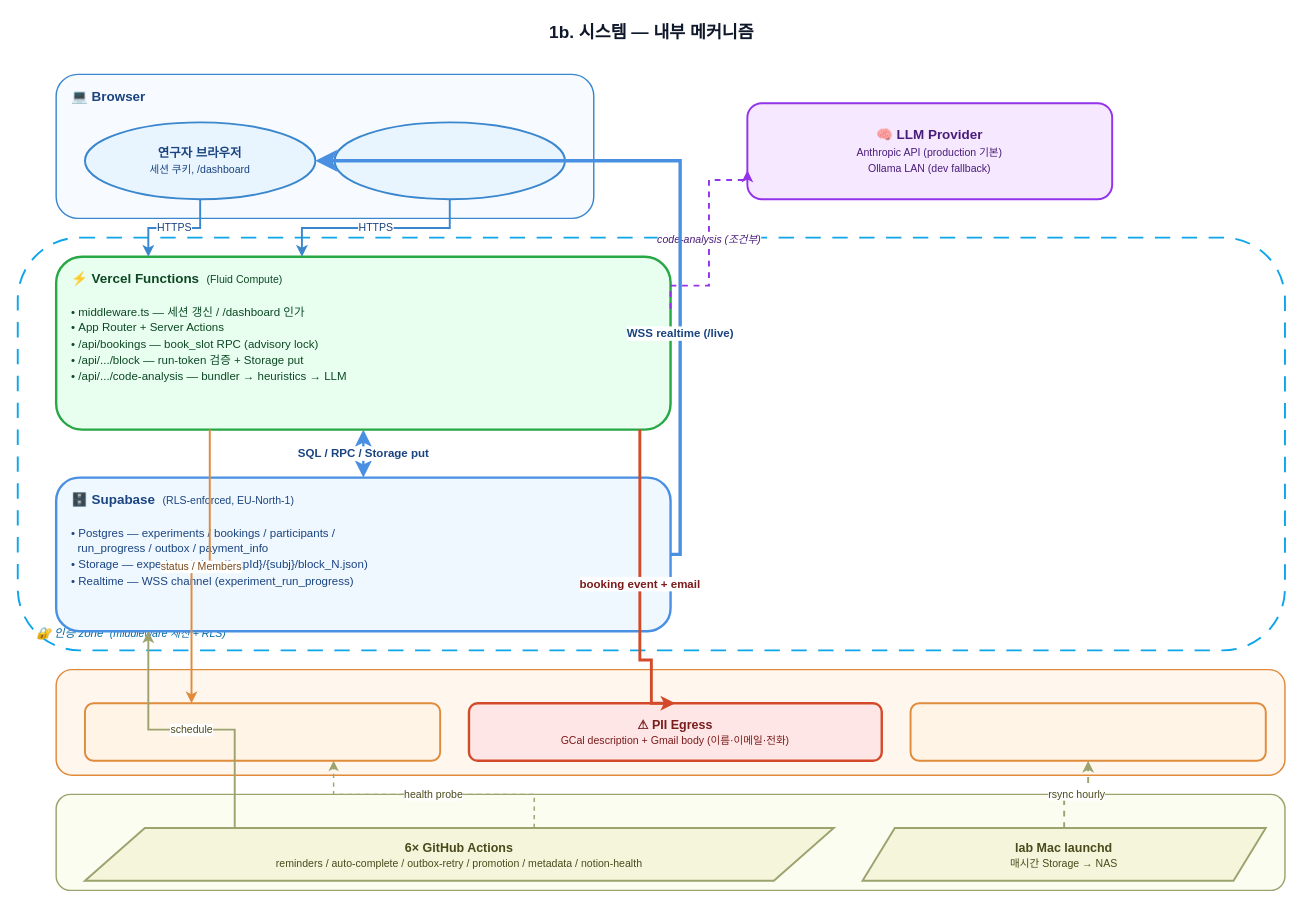
This 1302x907 diagram has some shape labels left out. The shapes that lost their labels are listed below. From the top down, each one's box as (x1, y1, x2, y2) in pixels, then its label:
(333, 121, 565, 200): 참여자 브라우저 run-token, /run iframe
(84, 702, 441, 761): 📝 Notion Members + Projects (PII 미저장)
(55, 668, 1285, 775): 🔌 외부 미러 (Vercel push)
(909, 702, 1266, 761): 💾 NAS 미러 랩 LAN, /Volumes/CSNL_new-1
(55, 793, 1285, 891): ⏰ Cron (별도 trust)
